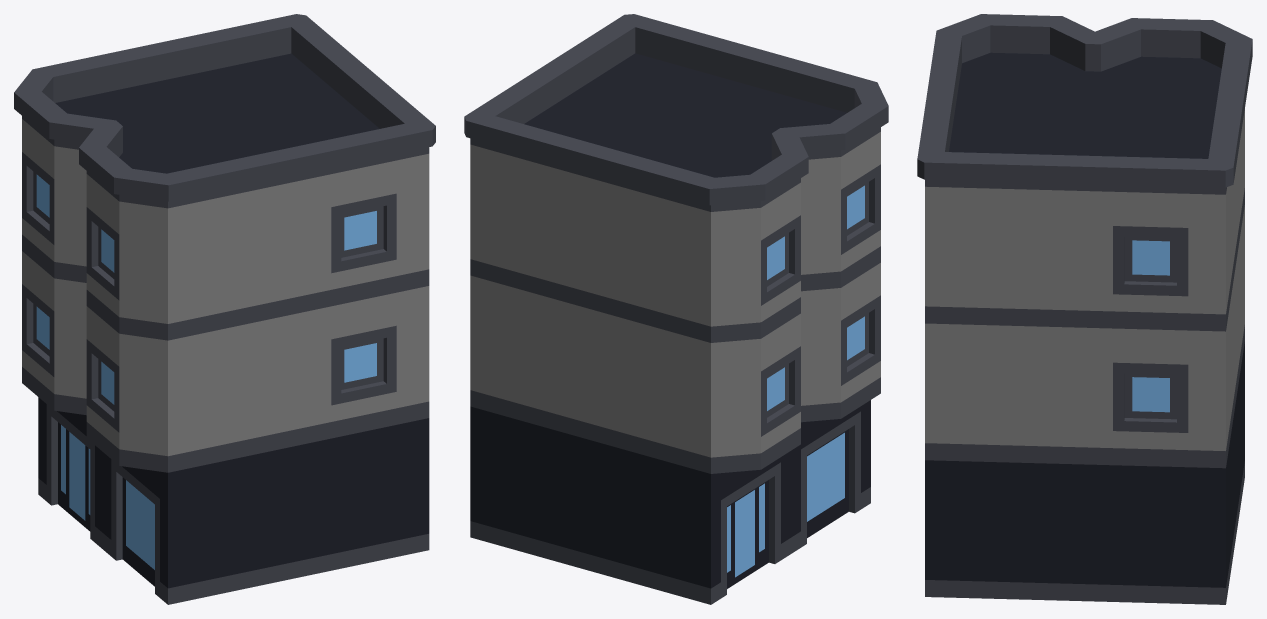
Rendered from variant_12.obj.
3 renders of one model, left to right at view 1: azimuth 30°, elevation 25°; view 2: azimuth 150°, elevation 25°; view 3: azimuth 270°, elevation 25°, orthographic. The views are drawn at different scales.
Visible parts, largest first — view 1: Building; view 2: Building; view 3: Building.
Part boxes in pixels (x1,y1,x2,y2): Building: (14, 14, 435, 604); Building: (464, 14, 888, 604); Building: (917, 14, 1252, 604).
Size of the model in its own units: 0.9826 by 1.28 by 0.8891.
